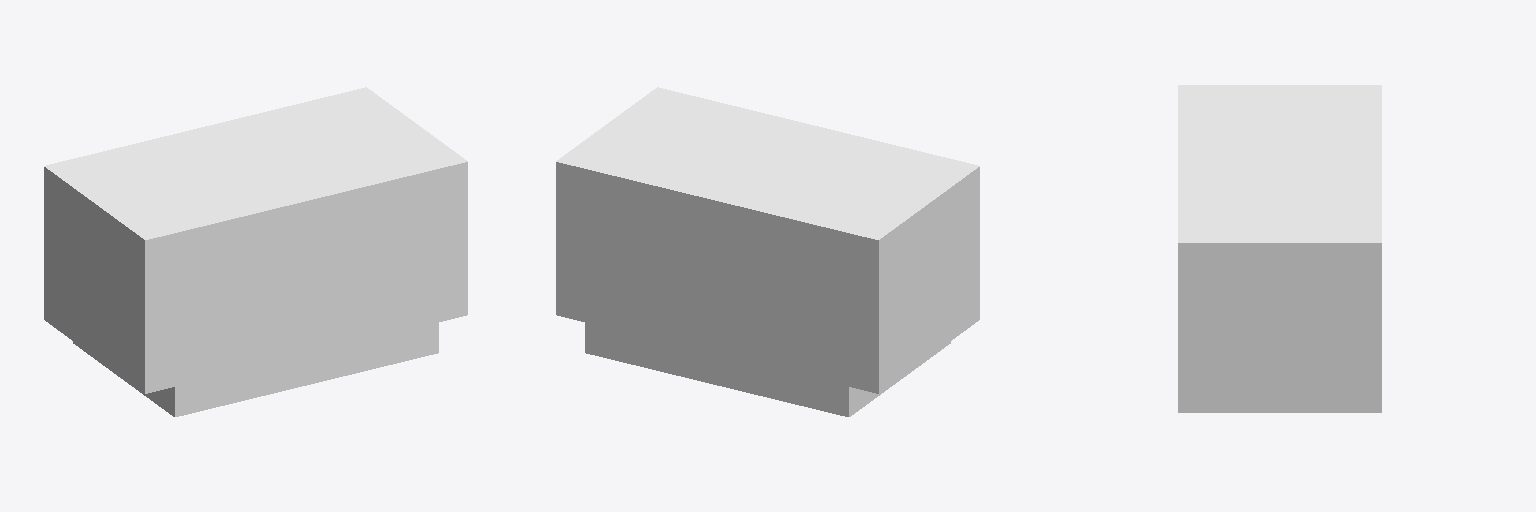
The model's file is body1.obj.
3 views of the same model, side by side, from view 1: azimuth 30°, elevation 25°; view 2: azimuth 150°, elevation 25°; view 3: azimuth 270°, elevation 25° (orthographic).
Bounding box in the file's own units: 11 × 6 × 6.